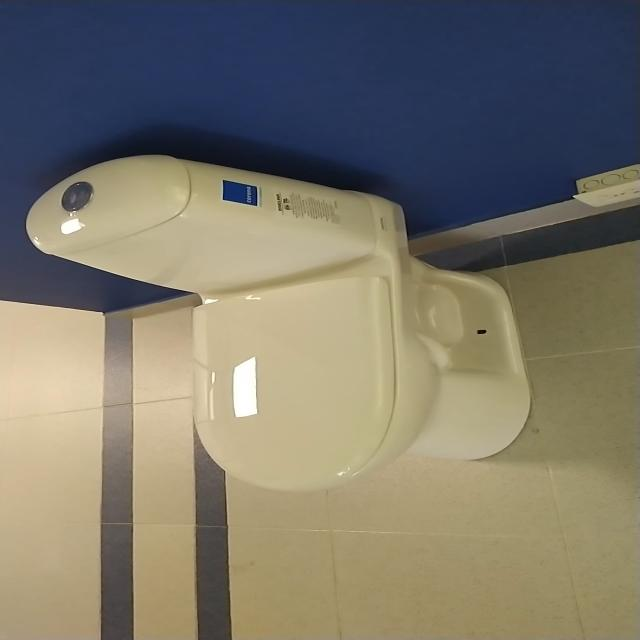toilet: (25, 153, 531, 493)
